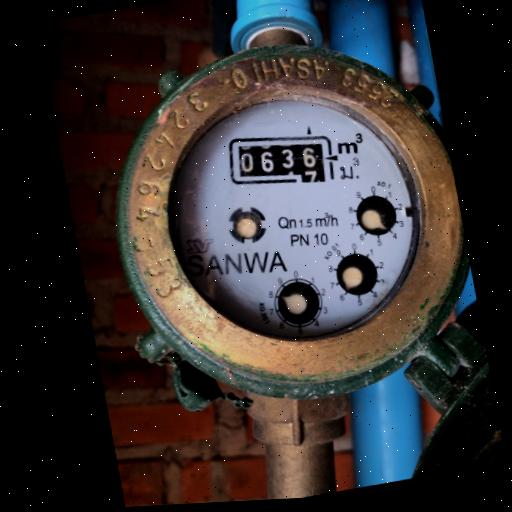0: (234, 142, 263, 180)
3: (272, 140, 302, 179)
6: (293, 140, 328, 187), (253, 142, 281, 178)
border_water_meter_number: (221, 120, 346, 200)
